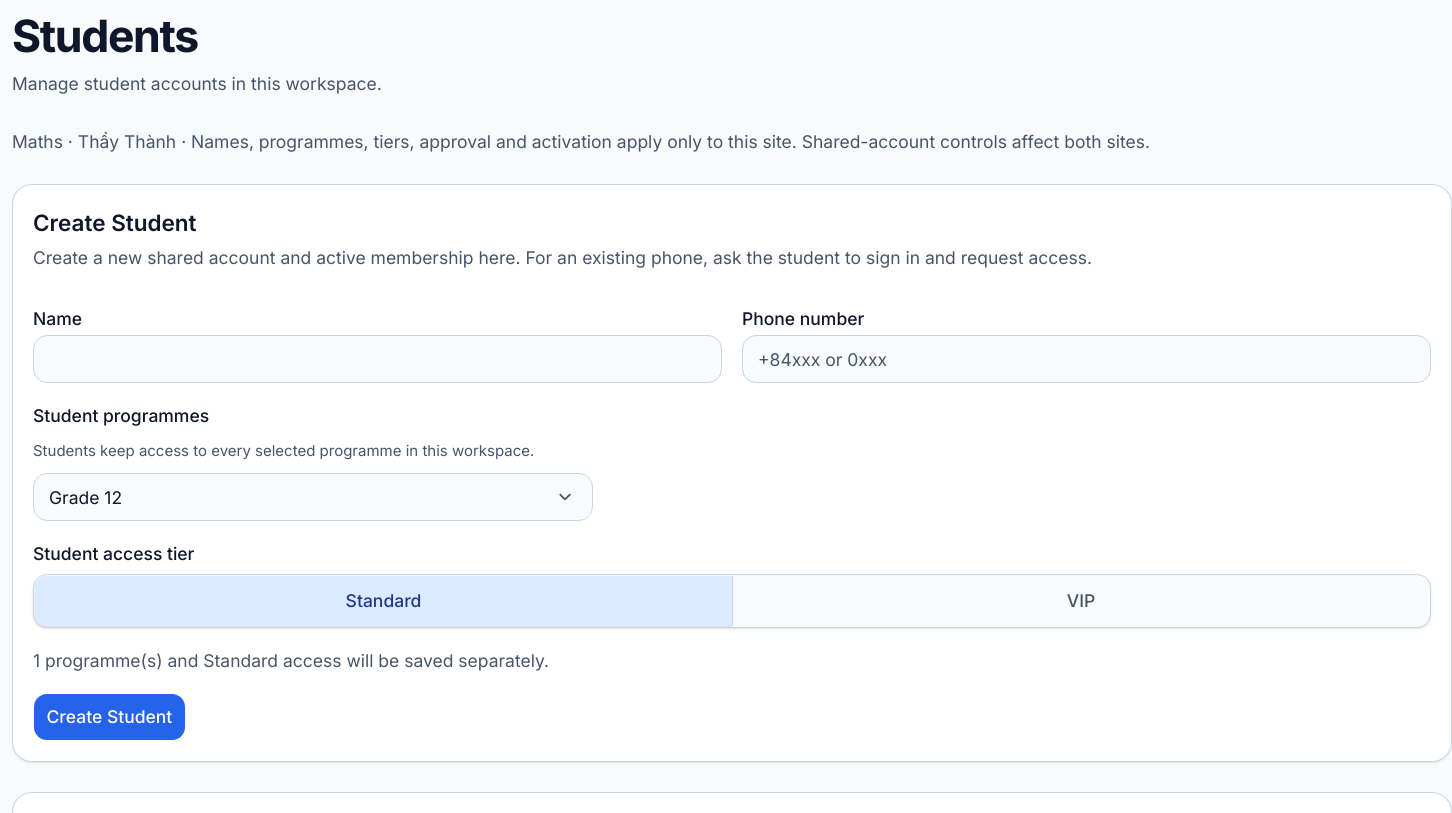
Test case: TeacherStudentsPage › shows validation error for empty phone
Type "Nguyễn Văn An" into the field labelled "Name" at (378, 359), box [33,335,722,383]
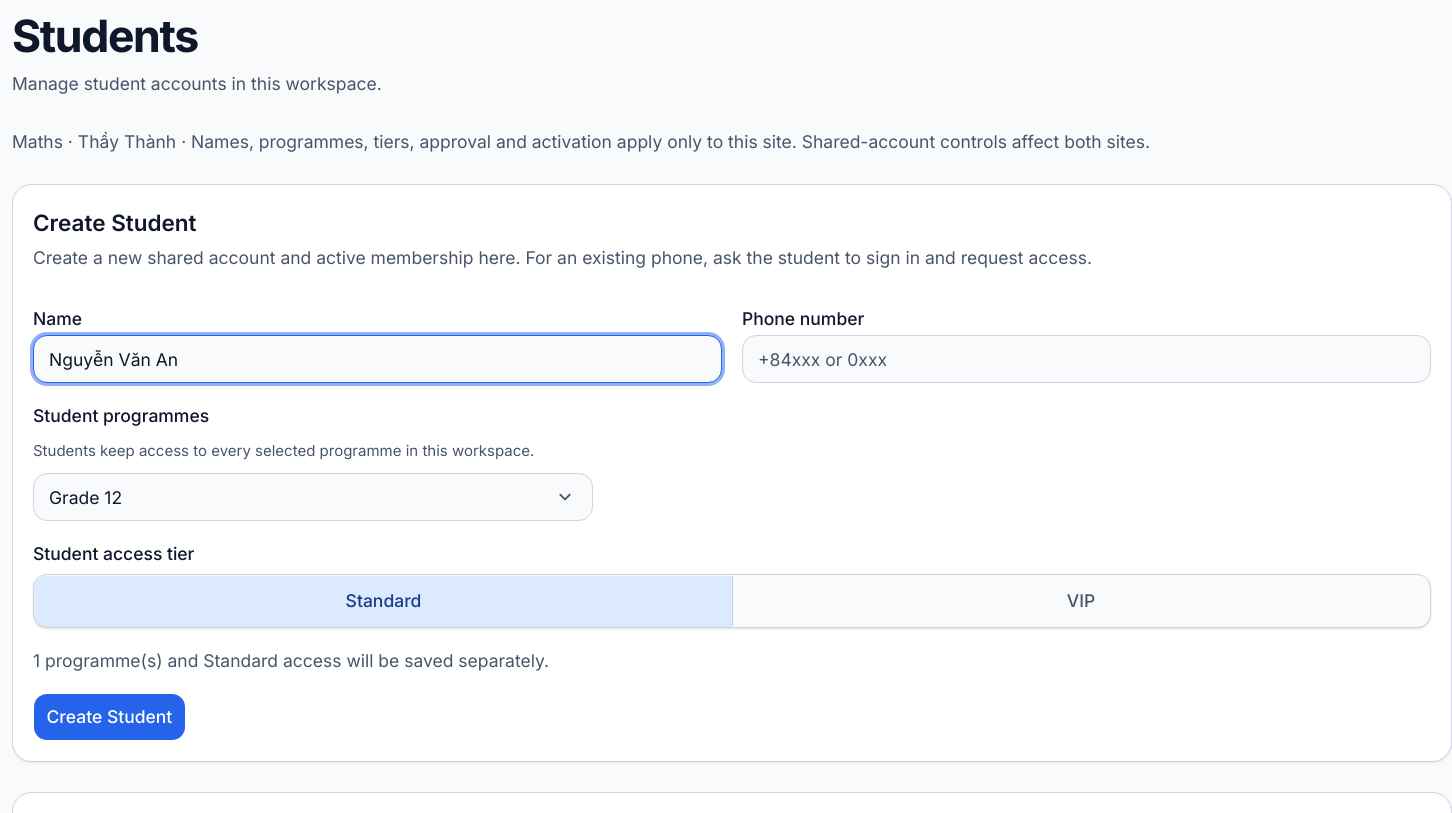
Click the button "Create Student" at (109, 717), box [33,693,186,741]
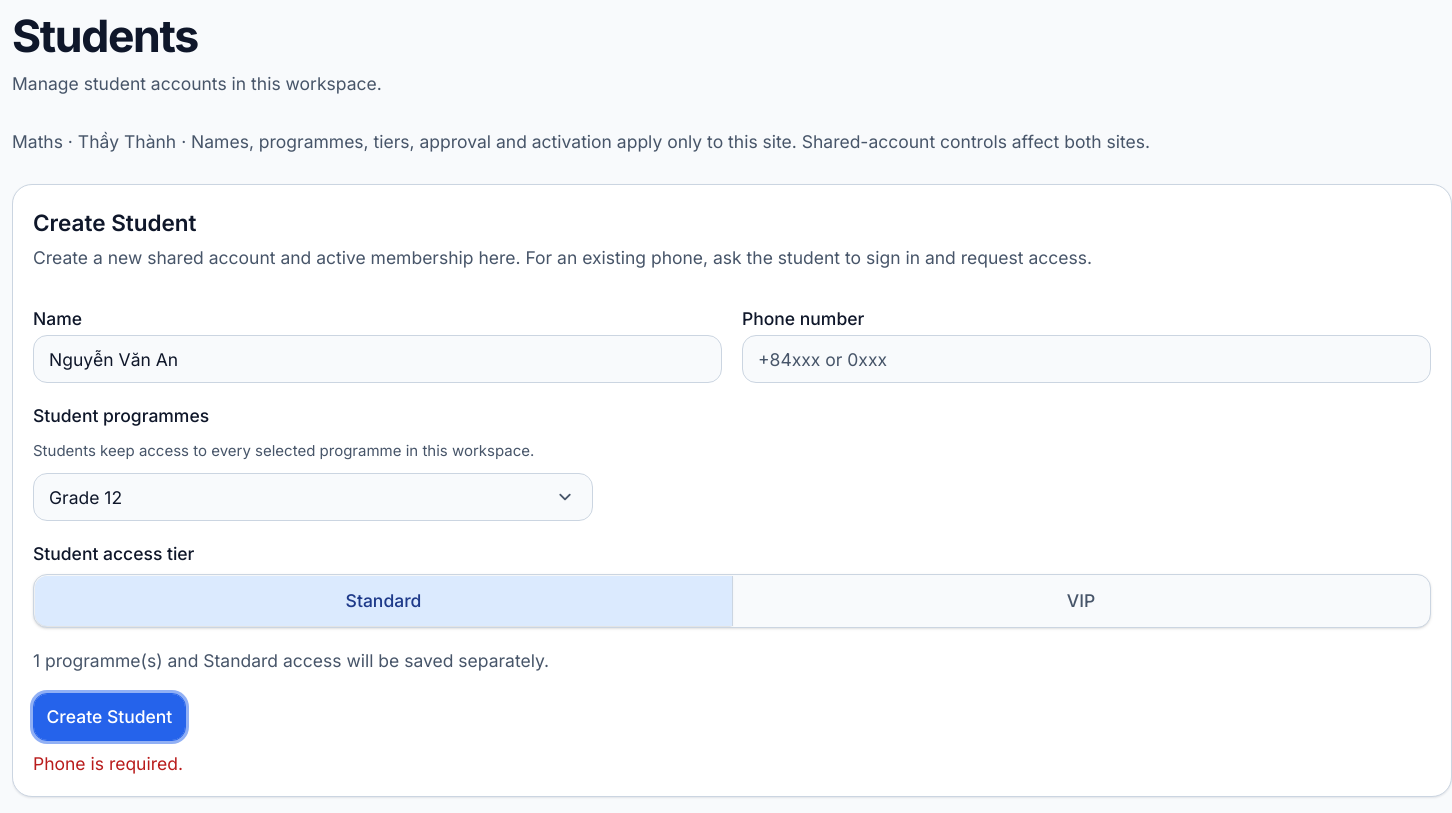
Check: the text "Phone is required." is shown, box [33,753,183,774]
